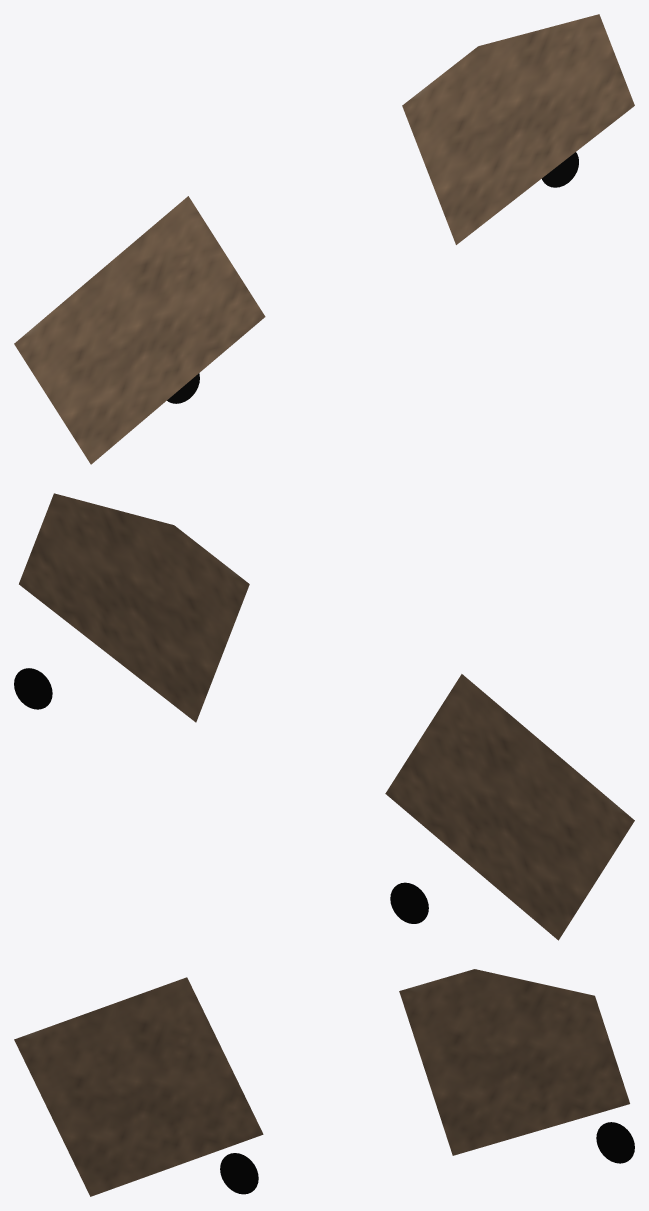
The model's file is Gat_Inicial_Ulls.fbx.
3 renders of one model, top to bottom at view 1: azimuth 30°, elevation 25°; view 2: azimuth 150°, elevation 25°; view 3: azimuth 330°, elevation 25°, orthographic.
Visible parts, largest first — view 1: Gat_Inicial_Ulls; view 2: Gat_Inicial_Ulls; view 3: Gat_Inicial_Ulls.
Part boxes in pixels (bbox=[...]): Gat_Inicial_Ulls: bbox=[14, 14, 634, 464]; Gat_Inicial_Ulls: bbox=[14, 493, 634, 940]; Gat_Inicial_Ulls: bbox=[14, 969, 634, 1196].
Size of the model in its own units: 969 by 487 by 81.85.
